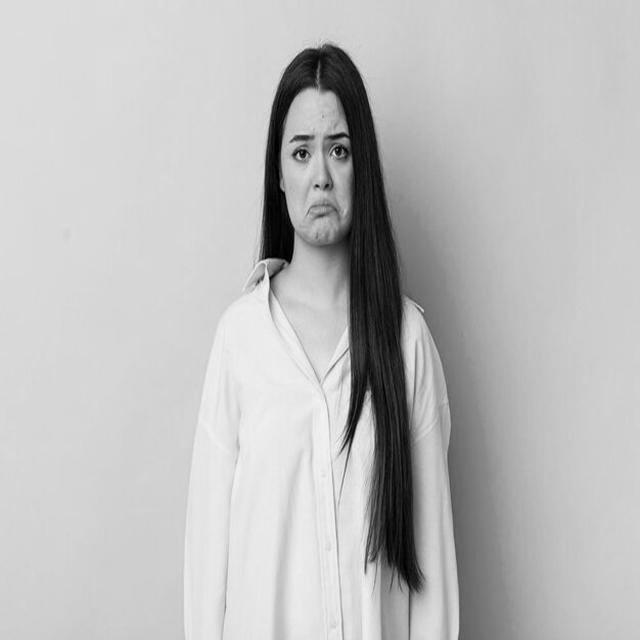Disgust: (281, 91, 355, 245)
